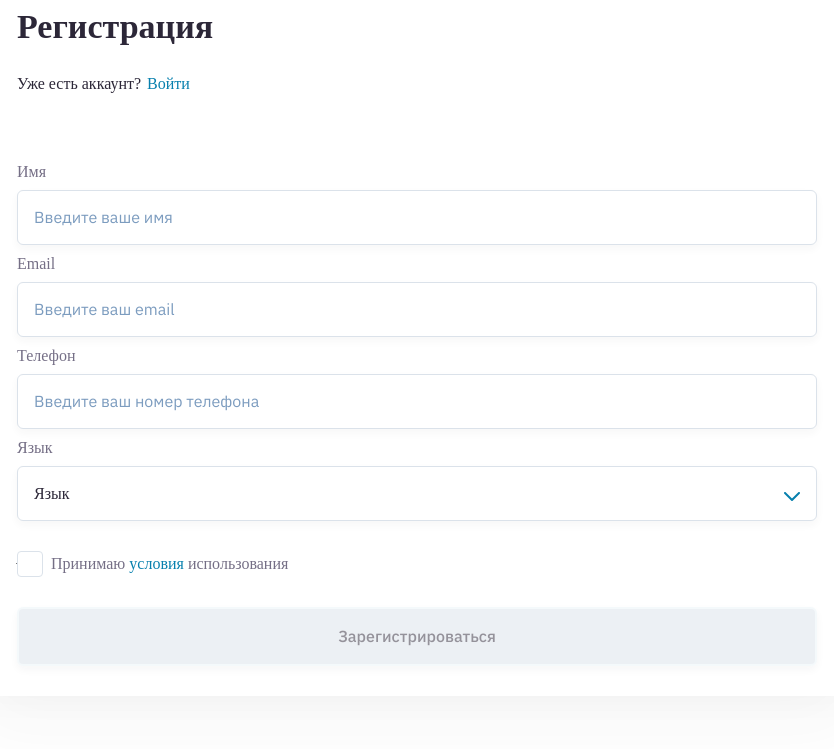
Scenario: SignUpContainer › Render nameError when name does not correct
The width and height of the screenshot is (834, 749).
Type "s" into the field with placeholder "Введите ваше имя". click: (417, 217)
box: [17,190,817,245]
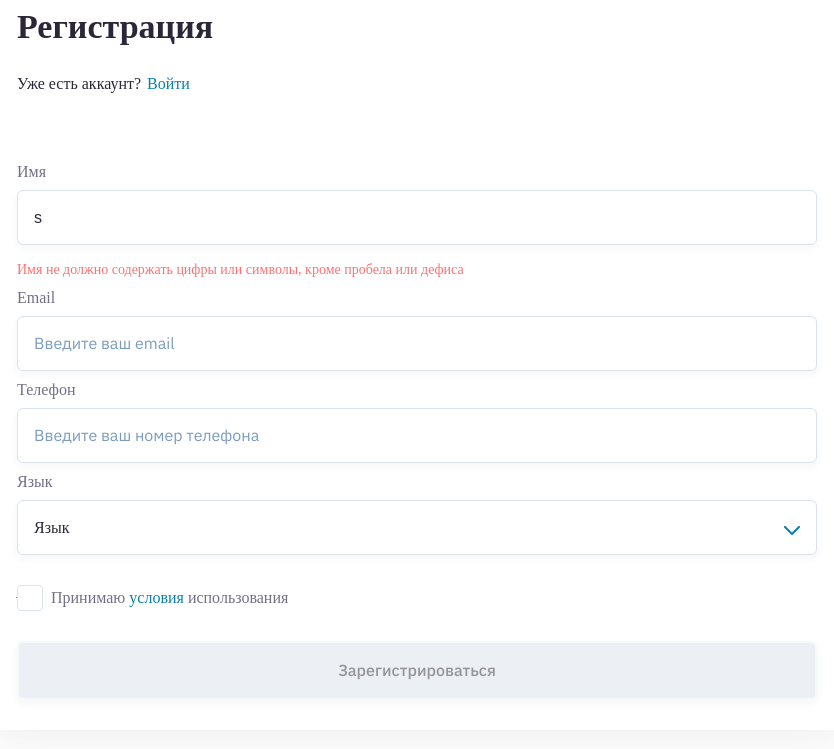
Result: the text "Имя не должно содержать цифры или символы, кроме пробела или дефиса" is shown at [17,262,464,277]
